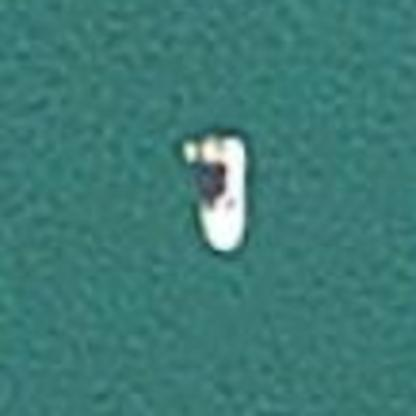ship: (168, 121, 274, 264)
